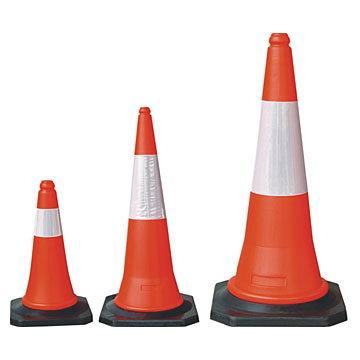Road_cone: (217, 33, 346, 328), (93, 103, 201, 327), (6, 173, 94, 326)
